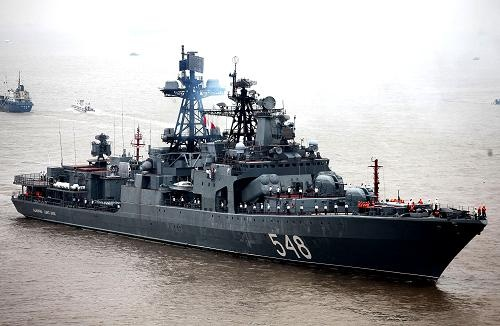otherboat: (1, 78, 34, 116)
warship: (6, 46, 492, 282)
